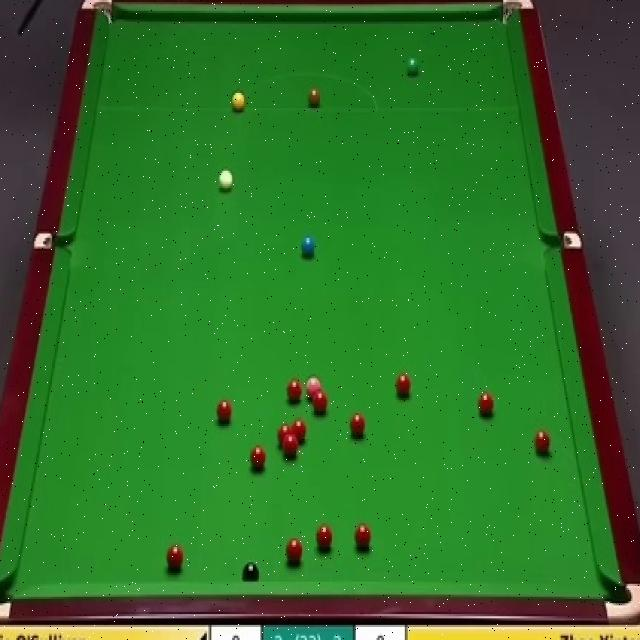black-ball: (242, 562, 260, 582)
blue-ball: (299, 231, 316, 259)
brown-ball: (308, 88, 320, 107)
green-ball: (404, 57, 420, 77)
pink-ball: (307, 376, 322, 401)
red-ball: (394, 371, 412, 402), (166, 544, 184, 572), (354, 522, 372, 550), (534, 430, 551, 459), (478, 391, 496, 418), (286, 537, 303, 564), (316, 524, 333, 551), (349, 411, 365, 439), (217, 401, 233, 427), (250, 445, 266, 471), (292, 419, 307, 446), (312, 390, 328, 414), (278, 424, 292, 446), (284, 437, 298, 458), (288, 382, 302, 402)
white-ball: (217, 167, 235, 195)
yellow-ball: (231, 90, 245, 111)
